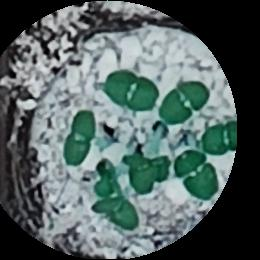Basil: (105, 69, 158, 111), (177, 149, 216, 203), (160, 80, 210, 120), (64, 111, 94, 165), (94, 196, 141, 229), (200, 123, 247, 155), (129, 153, 169, 190)
